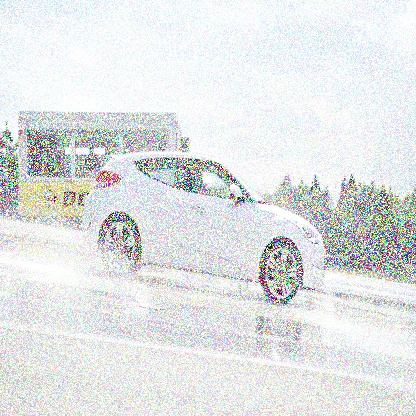Vehicle: (78, 143, 328, 304)
